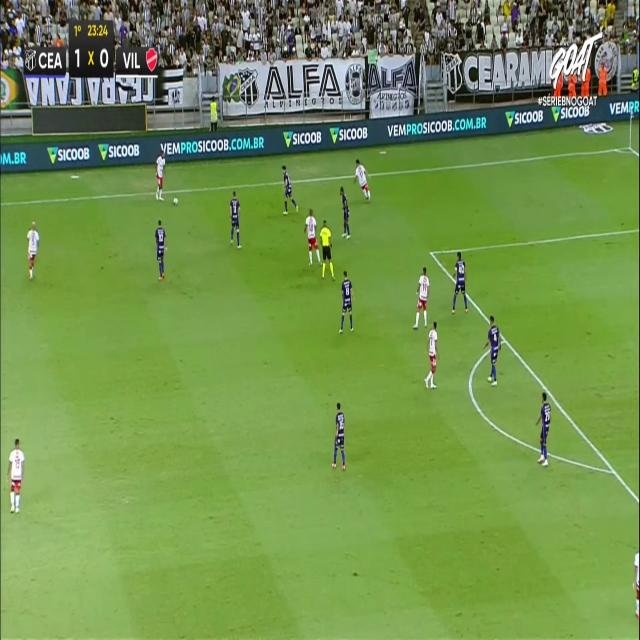ball: (174, 195, 178, 207)
player: (8, 437, 24, 513), (535, 392, 551, 465), (485, 315, 501, 386), (452, 250, 468, 314), (413, 266, 429, 329), (332, 402, 346, 470), (339, 269, 354, 332), (304, 207, 320, 264), (425, 320, 438, 388), (353, 158, 371, 202), (282, 163, 297, 214), (26, 221, 39, 279), (155, 219, 167, 279), (229, 190, 241, 248), (339, 187, 350, 239), (155, 148, 165, 201)
referee: (319, 219, 335, 281)
